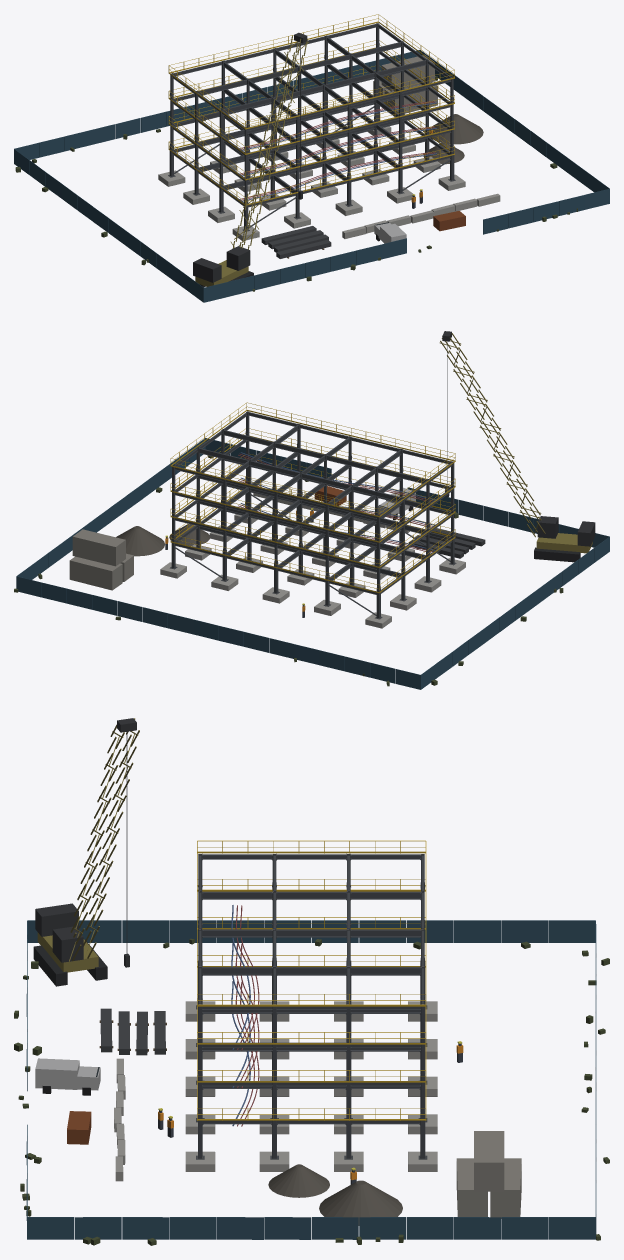
File: structure_environment.glb
3 views of the same model, one above another, from view 1: azimuth 30°, elevation 25°; view 2: azimuth 150°, elevation 25°; view 3: azimuth 270°, elevation 25° (orthographic). The views are drawn at different scales.
Visible parts, largest first — view 1: Site_Spoil_00, Site_Cabin_02, Site_Cabin_00, Site_Crane_Counterweight, Site_Skip, Site_Crane_Cab, Site_Crane_Deck, Site_Bundle_00, Site_Hoarding_FAR_02, Site_Hoarding_FAR_05, Site_Hoarding_NEAR_12, Site_Hoarding_FAR_01 (+14 smaller); view 2: Site_Cabin_02, Site_Cabin_01, Site_Spoil_00, Site_Crane_Deck, Site_Crane_Track_R; view 3: Site_Spoil_00, Site_Cabin_02, Site_Spoil_01, Site_Cabin_01, Site_Cabin_00, Site_Van_Body, Site_Hoarding_LEFT_02, Site_Hoarding_LEFT_11, Site_Hoarding_RIGHT_00, Site_Hoarding_RIGHT_03, Site_Hoarding_RIGHT_05, Site_Hoarding_RIGHT_08 (+18 smaller).
Boxes of the visible parts, <box> form: Site_Spoil_00: <box>432,114,483,144</box>; Site_Cabin_02: <box>381,54,434,91</box>; Site_Cabin_00: <box>384,82,437,113</box>; Site_Crane_Counterweight: <box>193,258,221,282</box>; Site_Skip: <box>433,210,465,231</box>; Site_Crane_Cab: <box>226,246,250,270</box>; Site_Crane_Deck: <box>195,260,248,286</box>; Site_Bundle_00: <box>276,239,331,258</box>; Site_Hoarding_FAR_02: <box>64,130,90,151</box>; Site_Hoarding_FAR_05: <box>141,111,166,132</box>; Site_Hoarding_NEAR_12: <box>508,207,533,228</box>; Site_Hoarding_FAR_01: <box>39,136,64,157</box>; Site_Cabin_02: <box>72,529,125,566</box>; Site_Cabin_01: <box>69,556,122,590</box>; Site_Spoil_00: <box>116,526,164,556</box>; Site_Crane_Deck: <box>536,533,592,553</box>; Site_Crane_Track_R: <box>534,547,580,562</box>; Site_Spoil_00: <box>319,1180,402,1225</box>; Site_Cabin_02: <box>474,1131,504,1191</box>; Site_Spoil_01: <box>268,1164,329,1197</box>; Site_Cabin_01: <box>490,1158,521,1218</box>; Site_Cabin_00: <box>456,1158,487,1216</box>; Site_Van_Body: <box>35,1058,79,1089</box>; Site_Hoarding_LEFT_02: <box>122,920,169,942</box>; Site_Hoarding_LEFT_11: <box>548,920,595,942</box>; Site_Hoarding_RIGHT_00: <box>27,1217,74,1239</box>; Site_Hoarding_RIGHT_03: <box>169,1217,216,1239</box>; Site_Hoarding_RIGHT_05: <box>264,1217,311,1239</box>; Site_Hoarding_RIGHT_08: <box>406,1217,453,1239</box>.
Size of the model in its own units: 59.25 by 28.25 by 48.21.
